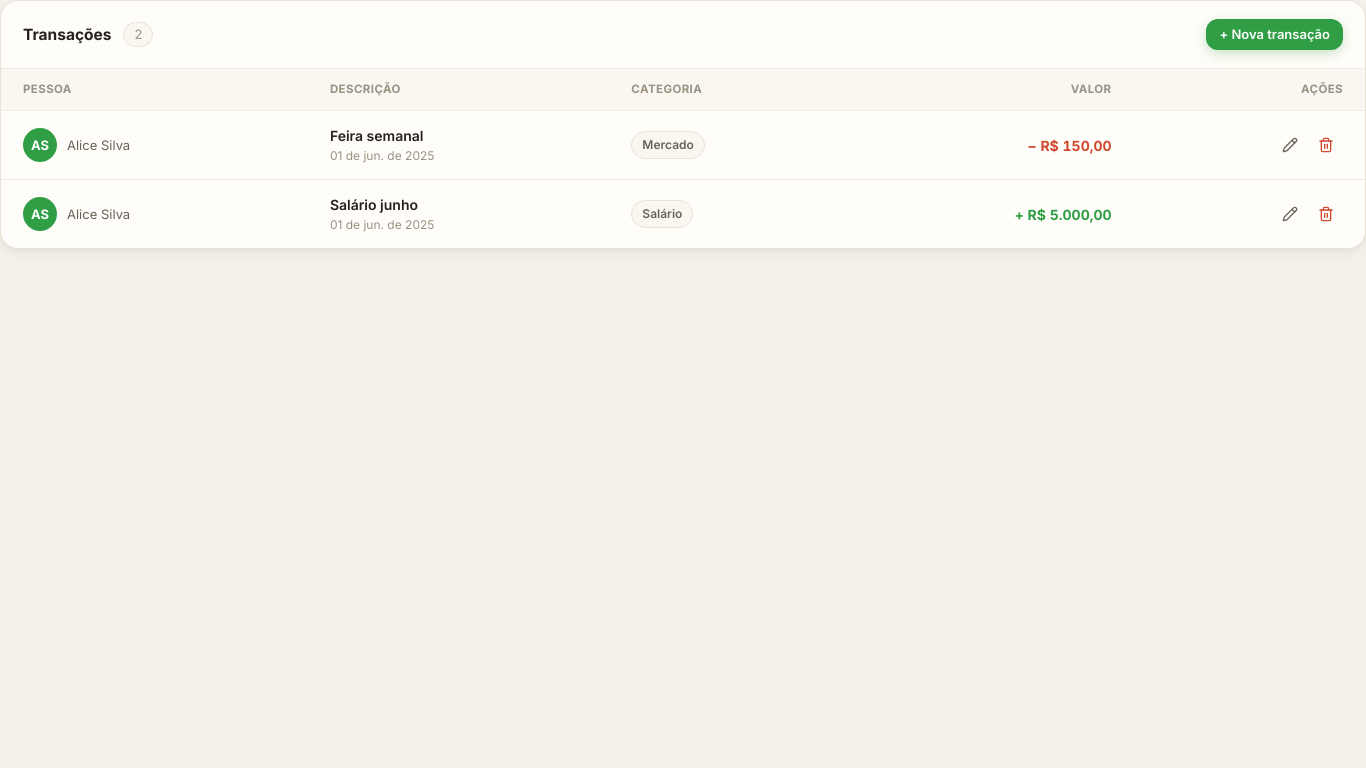
it: TransactionsPage › opens delete confirm modal when delete button clicked
Check: the text "Feira semanal" is shown, box [330, 127, 424, 144]
Click the first delete button (Excluir title)
Click the button titled "Excluir" in the row of "Feira semanal" at (1326, 145), box [1309, 128, 1343, 162]
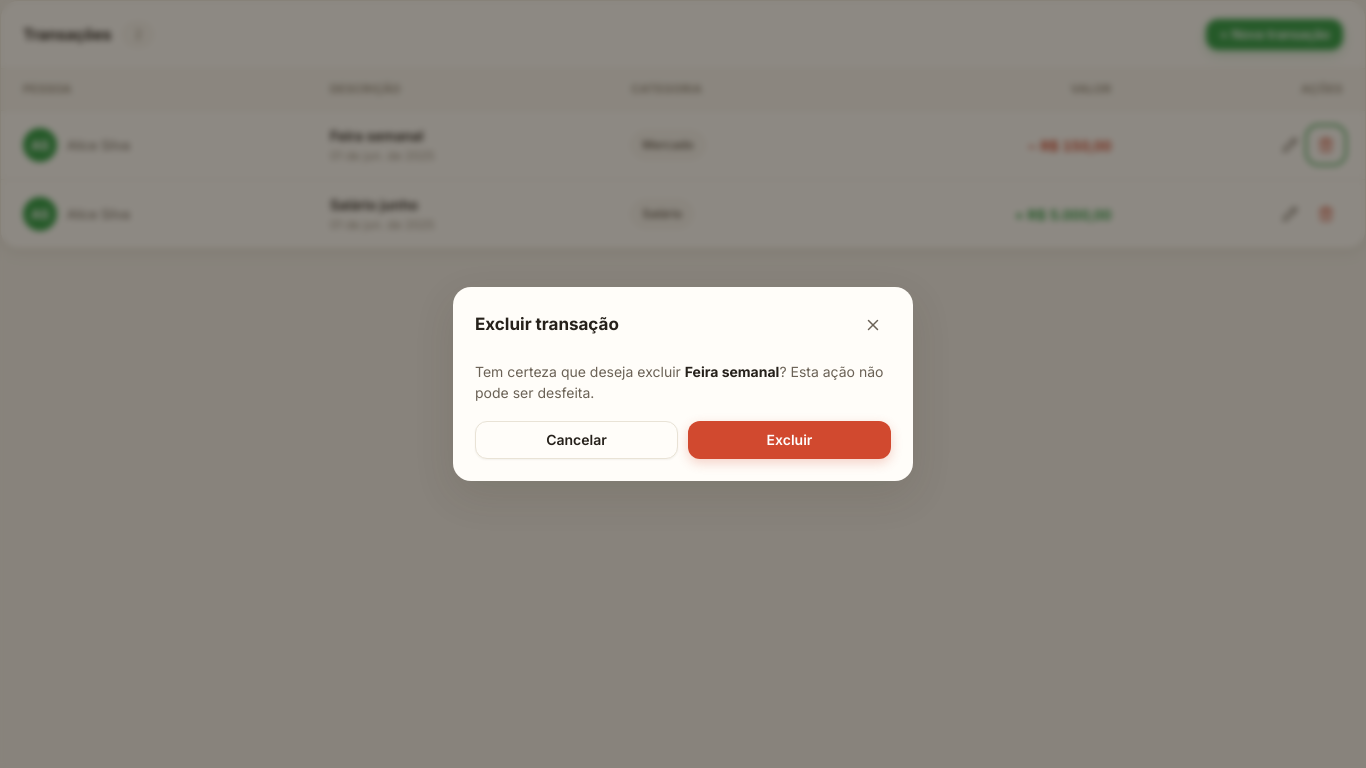
Check: the text "Excluir transação" is shown, box [475, 312, 619, 338]
